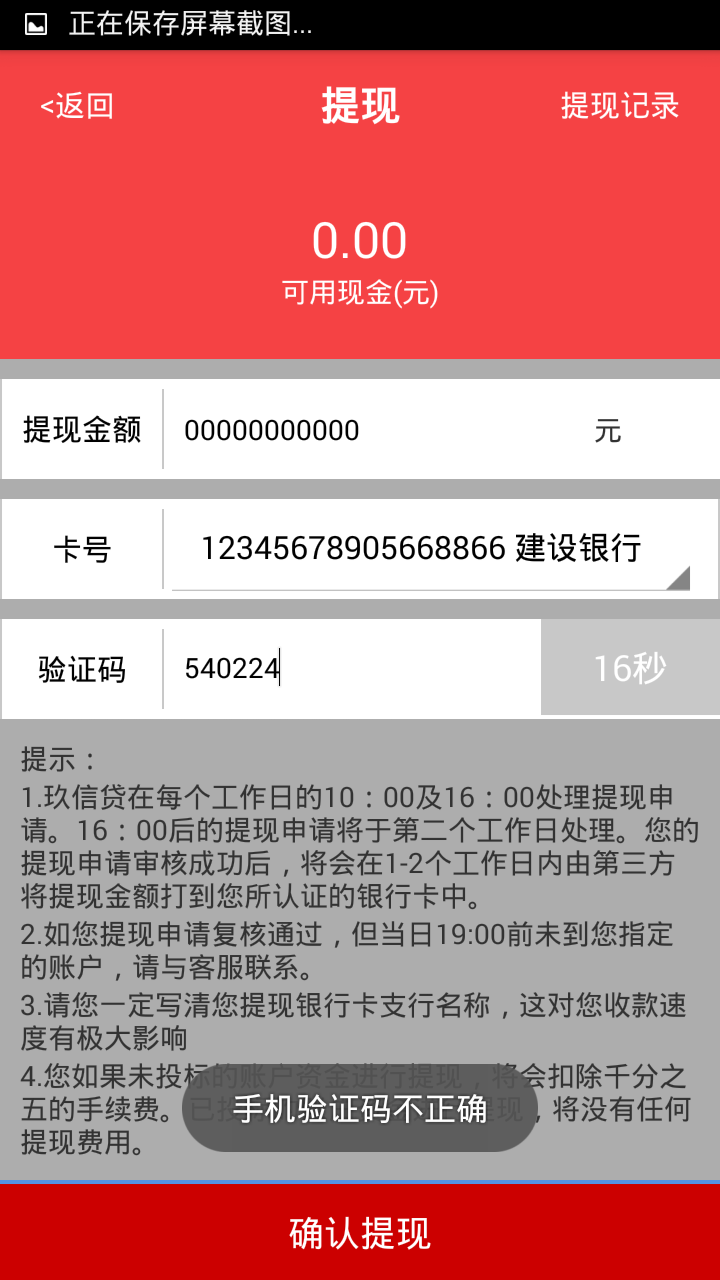alert: (179, 1057, 545, 1157)
button: (2, 1177, 720, 1274)
